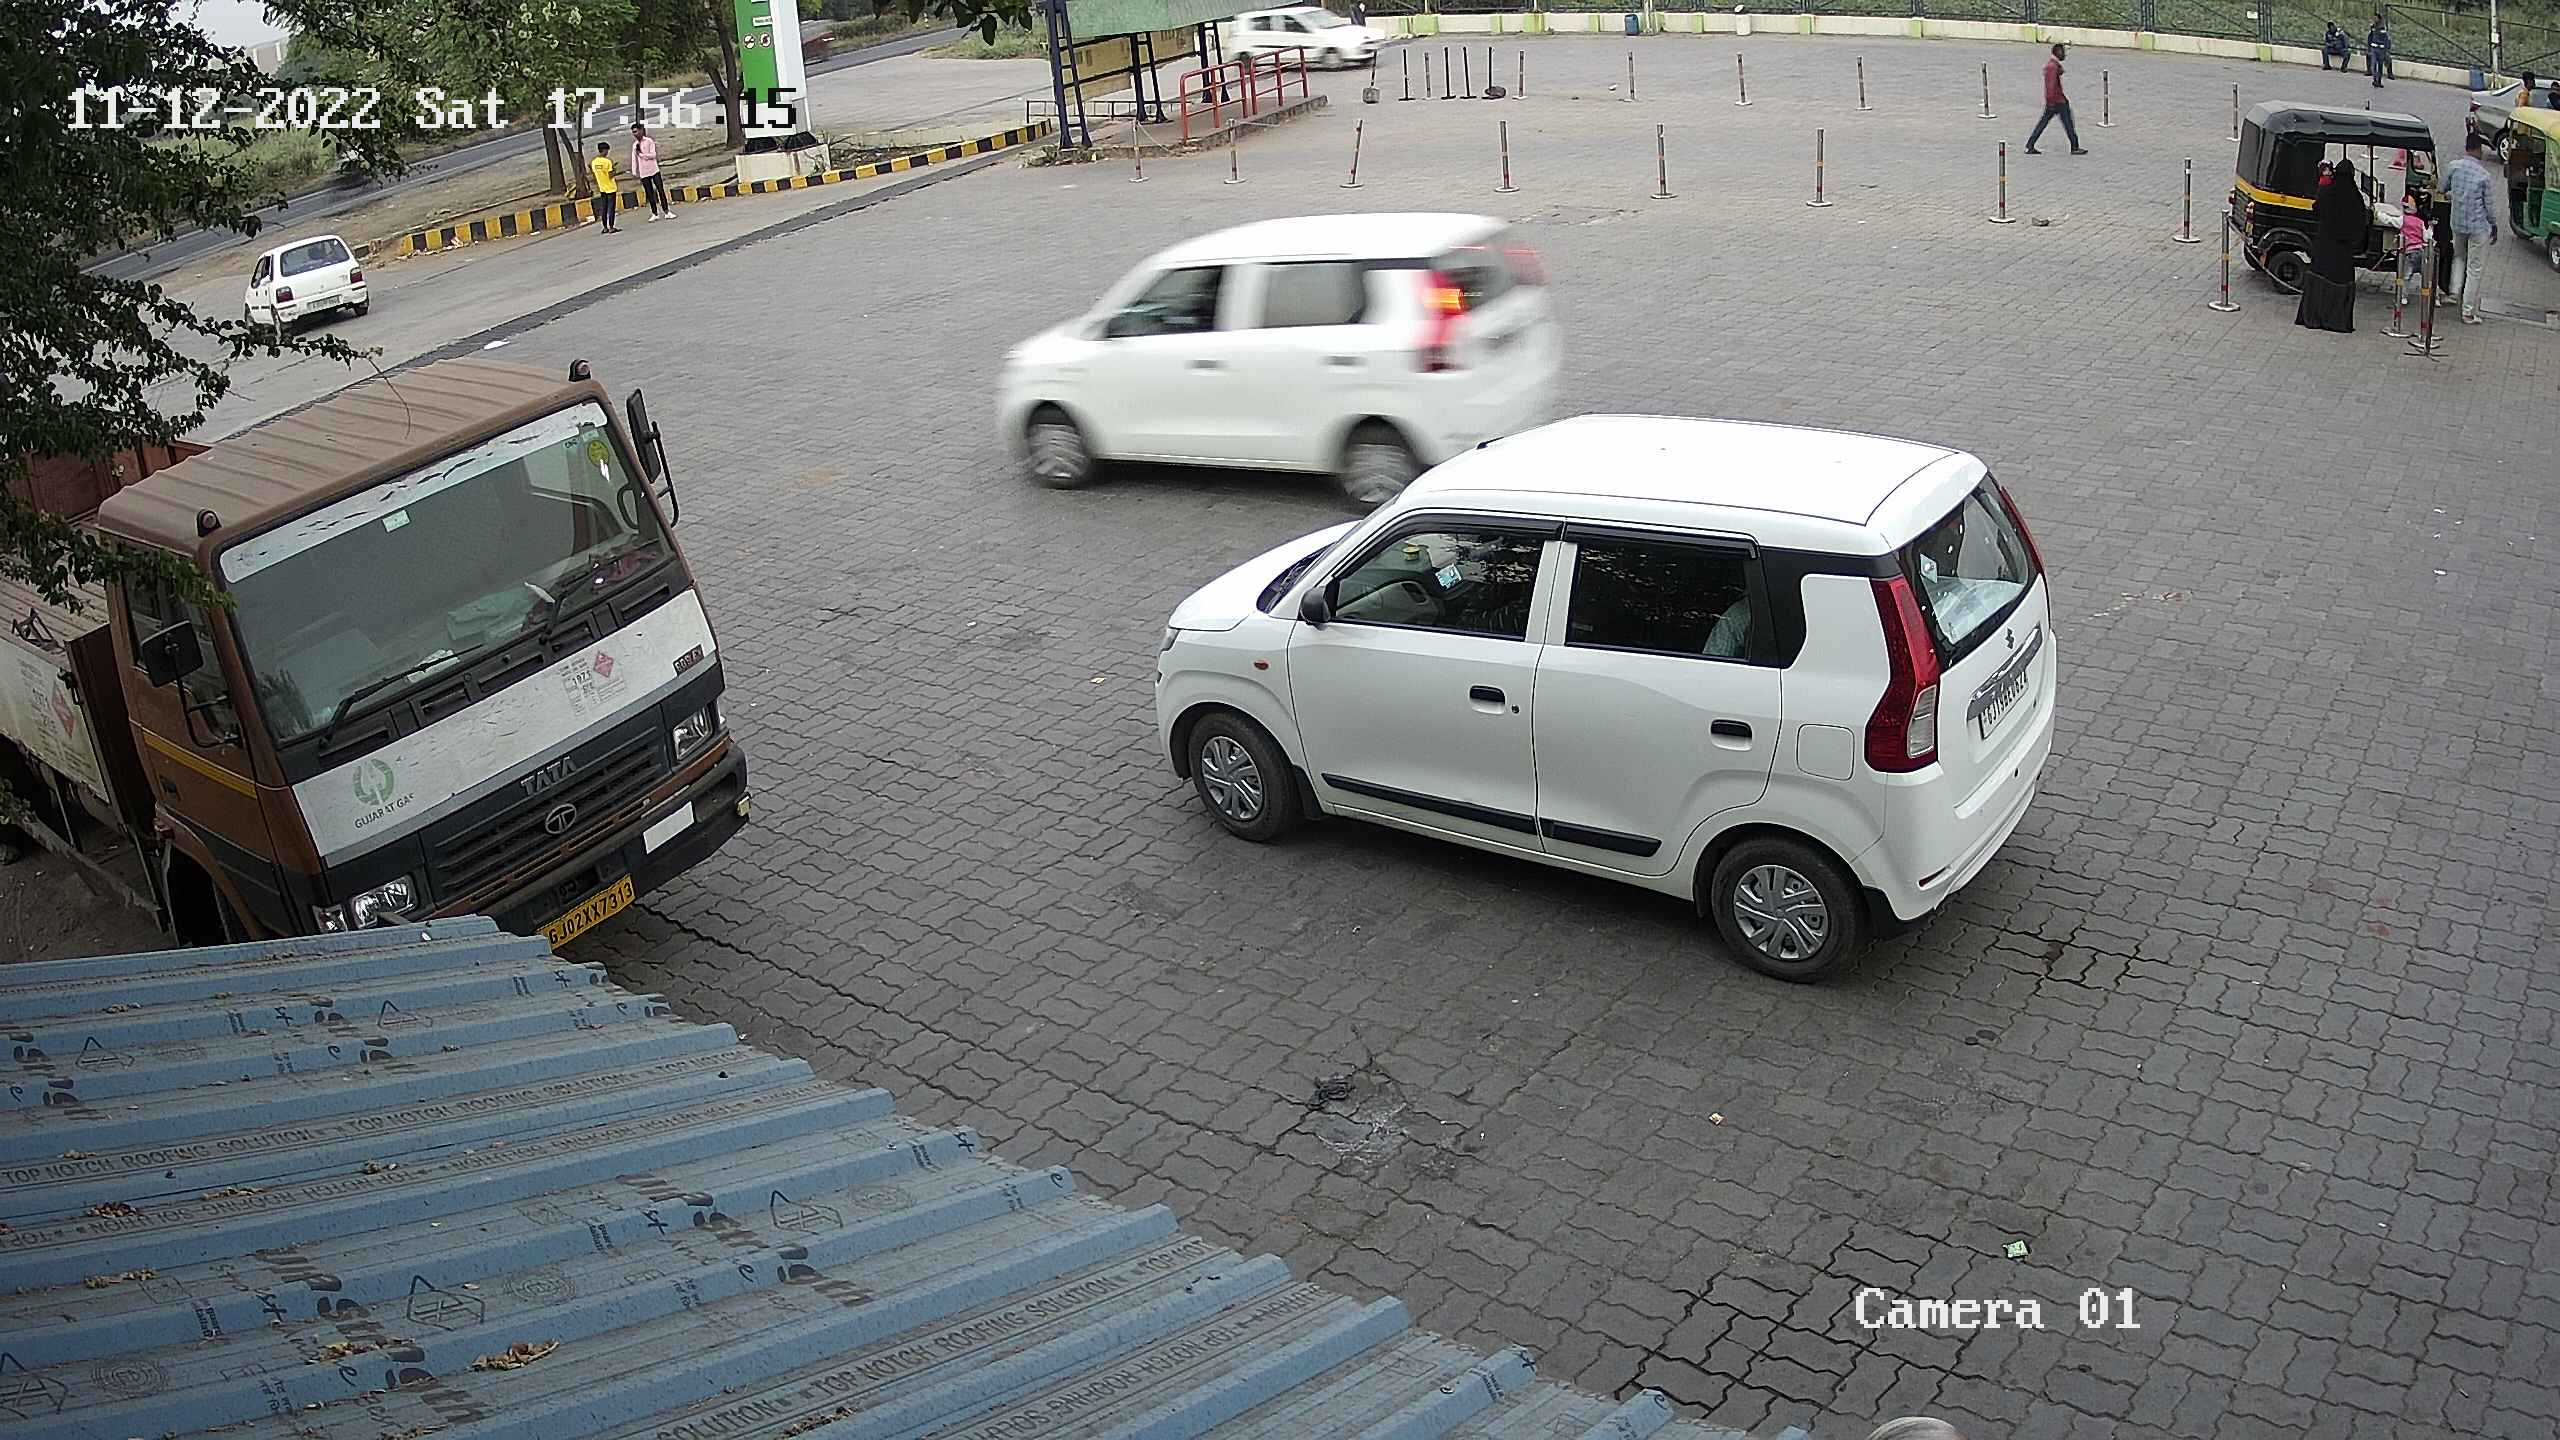Auto: (2210, 91, 2483, 306), (2486, 90, 2558, 278)
Car: (1143, 397, 2068, 992), (985, 199, 1582, 520), (225, 227, 376, 350), (1194, 0, 1396, 91), (2453, 60, 2558, 171)
HMV: (2, 324, 767, 985)
